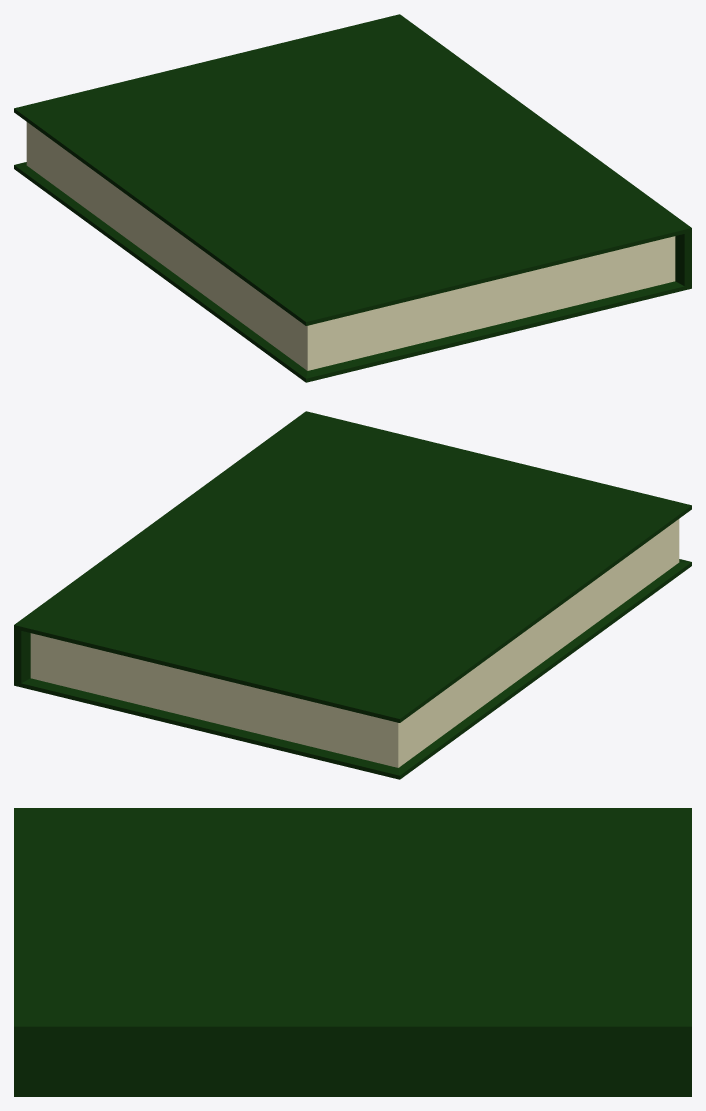
The model's file is healthbook_modelingfbx.fbx.
3 views of the same model, one above another, from view 1: azimuth 30°, elevation 25°; view 2: azimuth 150°, elevation 25°; view 3: azimuth 270°, elevation 25° (orthographic). The views are drawn at different scales.
Parts seen in each view (by area): view 1: healthbook_modelingfbx; view 2: healthbook_modelingfbx; view 3: healthbook_modelingfbx.
Boxes of the visible parts, x1,y1,x2,y2 form: healthbook_modelingfbx: [14, 14, 691, 382]; healthbook_modelingfbx: [14, 411, 691, 779]; healthbook_modelingfbx: [14, 808, 691, 1096].
Bounding box in the file's own units: 192 × 28.84 × 252.
